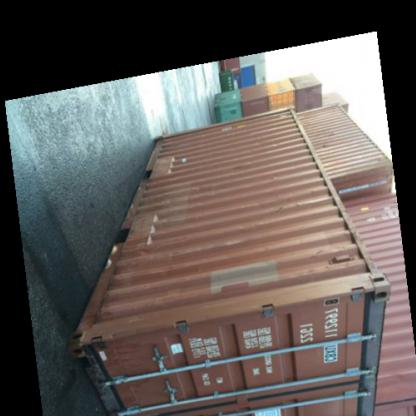Damage: (142, 209, 169, 262), (76, 330, 105, 368), (164, 148, 177, 186)
